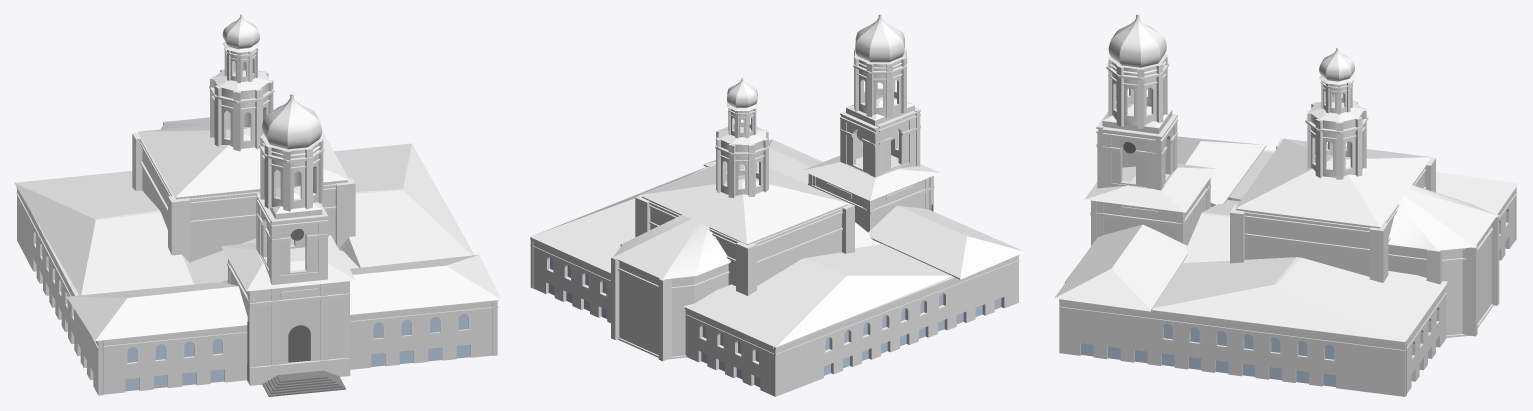
Rendered from SM_Castle.FBX.
3 renders of one model, left to right at view 1: azimuth 30°, elevation 25°; view 2: azimuth 150°, elevation 25°; view 3: azimuth 270°, elevation 25°, orthographic. The views are drawn at different scales.
Visible parts, largest first — view 1: Line205, Line204, Line187, Line194, Line186, Shape173, Shape192, Line190, Shape179, Shape189, Line185, Shape176 (+31 smaller); view 2: Line205, Shape189, Line194, Line187, Line195, Line196, Line204, Line190, Shape216, Shape221, Line185, cupoll02 (+28 smaller); view 3: Line204, Shape175, Line194, Line186, Line190, Line196, Line195, Line185, Line187, Line205, Line175, cupoll02 (+32 smaller).
Boxes of the visible parts, x1,y1,x2,y2 form: Line205: (14, 171, 194, 295); Line204: (334, 143, 473, 267); Line187: (67, 282, 247, 340); Line194: (138, 124, 349, 197); Line186: (350, 254, 501, 314); Shape173: (103, 326, 247, 394); Shape192: (350, 302, 492, 369); Line190: (142, 149, 347, 261); Shape179: (248, 282, 342, 384); Shape189: (17, 189, 102, 395); Line185: (221, 235, 355, 291); Shape176: (248, 281, 349, 367); Line205: (683, 244, 951, 347); Shape189: (772, 256, 1018, 396); Line194: (639, 162, 849, 244); Line187: (868, 205, 1024, 279); Line195: (619, 261, 728, 356); Line196: (613, 215, 730, 279); Line204: (530, 166, 708, 272); Line190: (642, 196, 847, 285); Shape216: (685, 310, 772, 395); Shape221: (534, 242, 610, 323); Line185: (802, 147, 940, 200); cupoll02: (855, 14, 904, 68); Line204: (1152, 257, 1447, 341); Shape175: (1059, 301, 1405, 396); Line194: (1235, 138, 1431, 227); Line186: (1054, 224, 1188, 311); Line190: (1236, 174, 1424, 276); Line196: (1388, 185, 1496, 250); Line195: (1388, 224, 1491, 335); Line185: (1084, 163, 1216, 212); Line187: (1177, 136, 1266, 207); Line205: (1229, 151, 1518, 214); Line175: (1081, 324, 1406, 395); cupoll02: (1108, 14, 1166, 73).
Bounding box in the file's own units: 52195 × 30813 × 49628.
